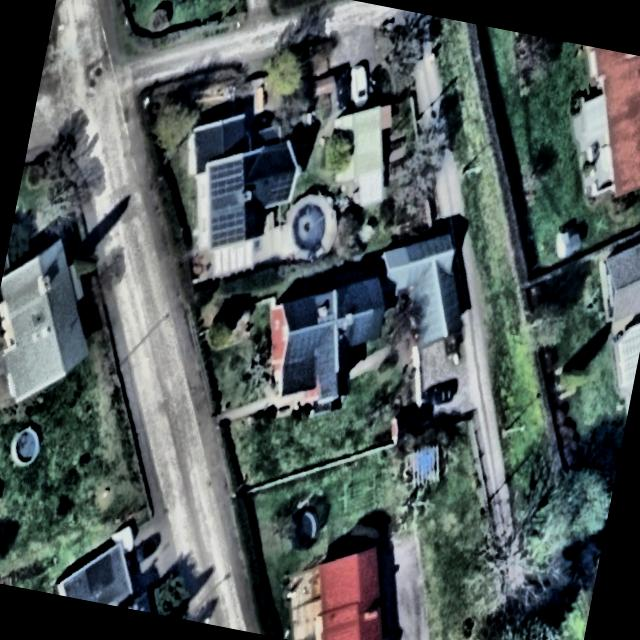roof_pv: (204, 154, 250, 202), (203, 206, 250, 252), (284, 328, 320, 370), (268, 167, 296, 210)
